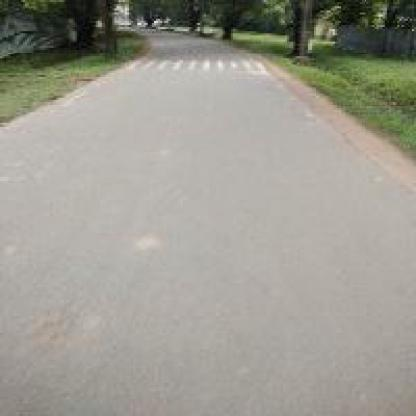Speed Bump: (123, 56, 264, 73)
